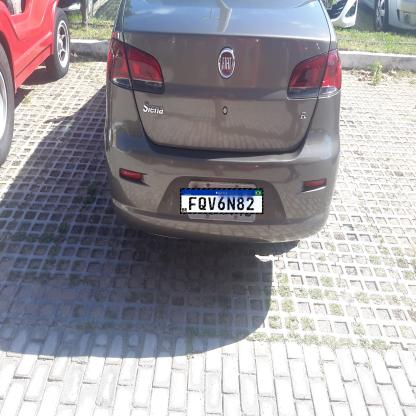PlacaM: (180, 188, 263, 214)
